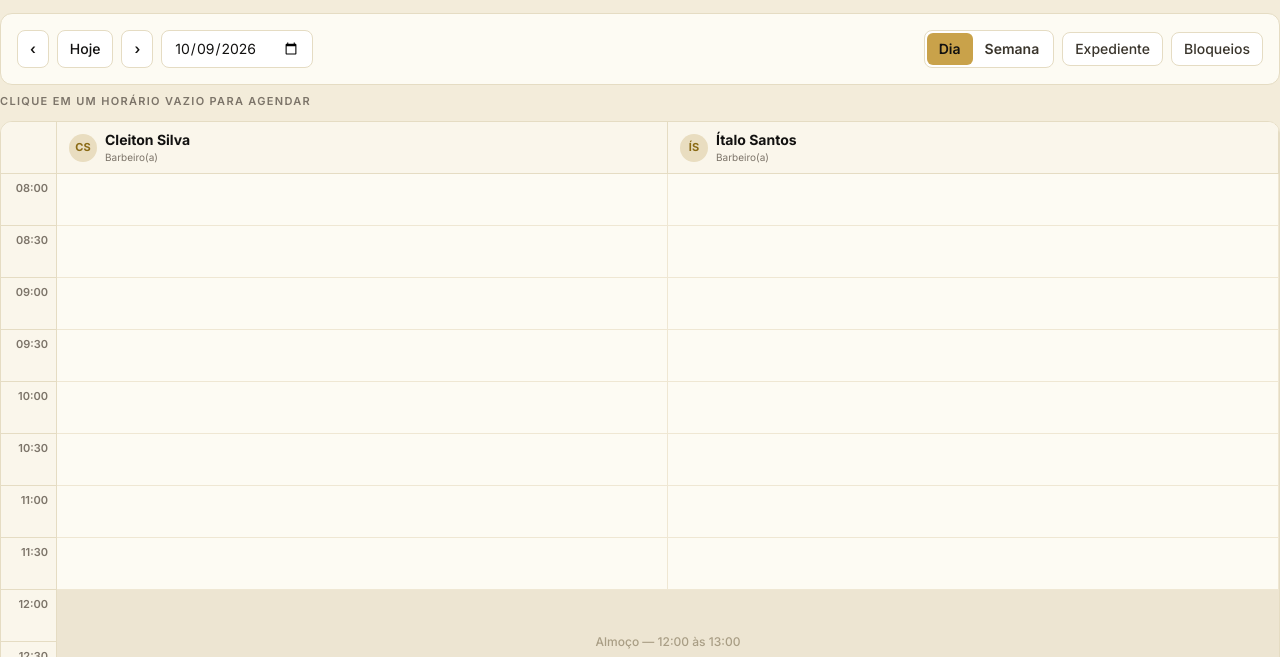
Scenario: Agenda — modais de expediente e bloqueios › expediente: valida erro e reflete na grade ao salvar
The image size is (1280, 657).
Click the button "Expediente" at (1113, 48), box 1062,32 -> 1163,66
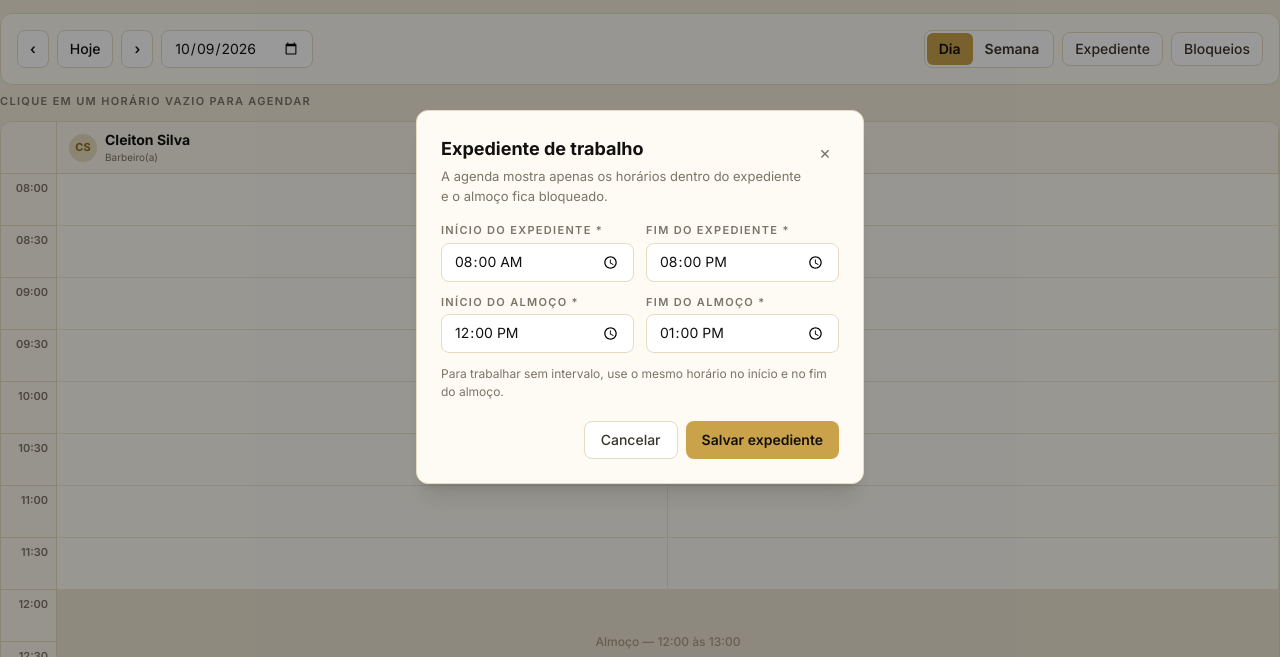
Now the heading "Expediente de trabalho" is shown, box 441,138 -> 644,159
Replace the text in the time field labelled "Início do expediente *" with "21:00" at (538, 262), box 441,243 -> 634,282
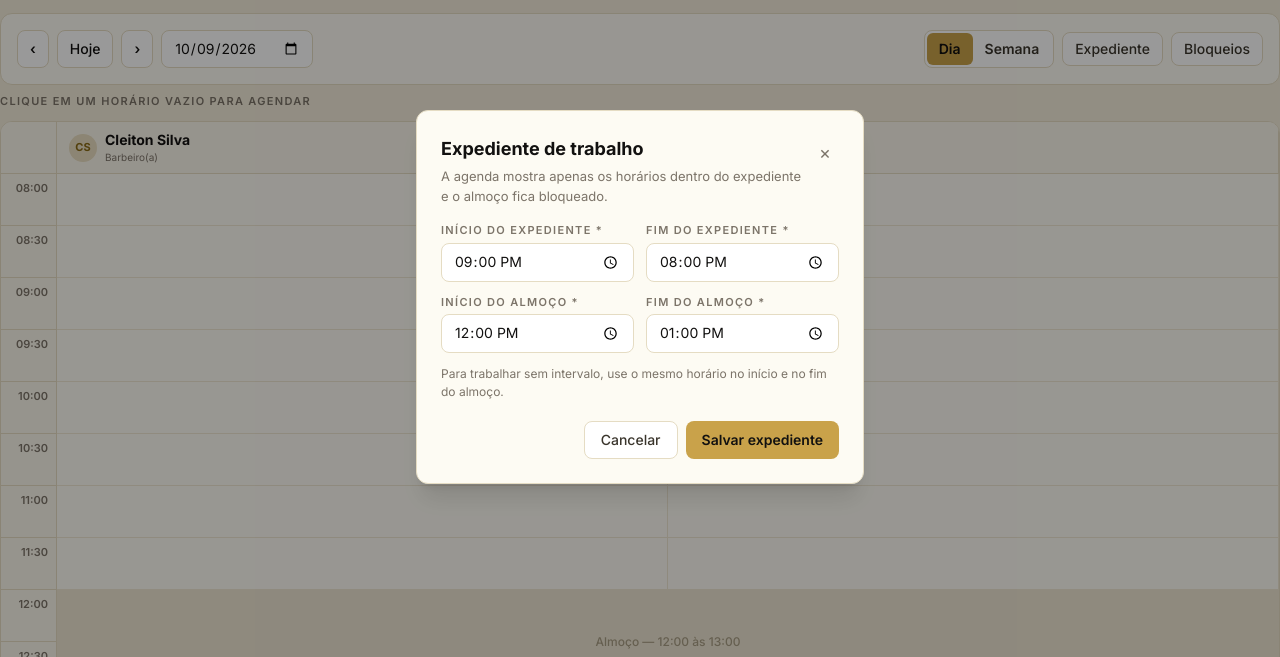
Click the button "Salvar expediente" at (762, 440), box 686,421 -> 839,459
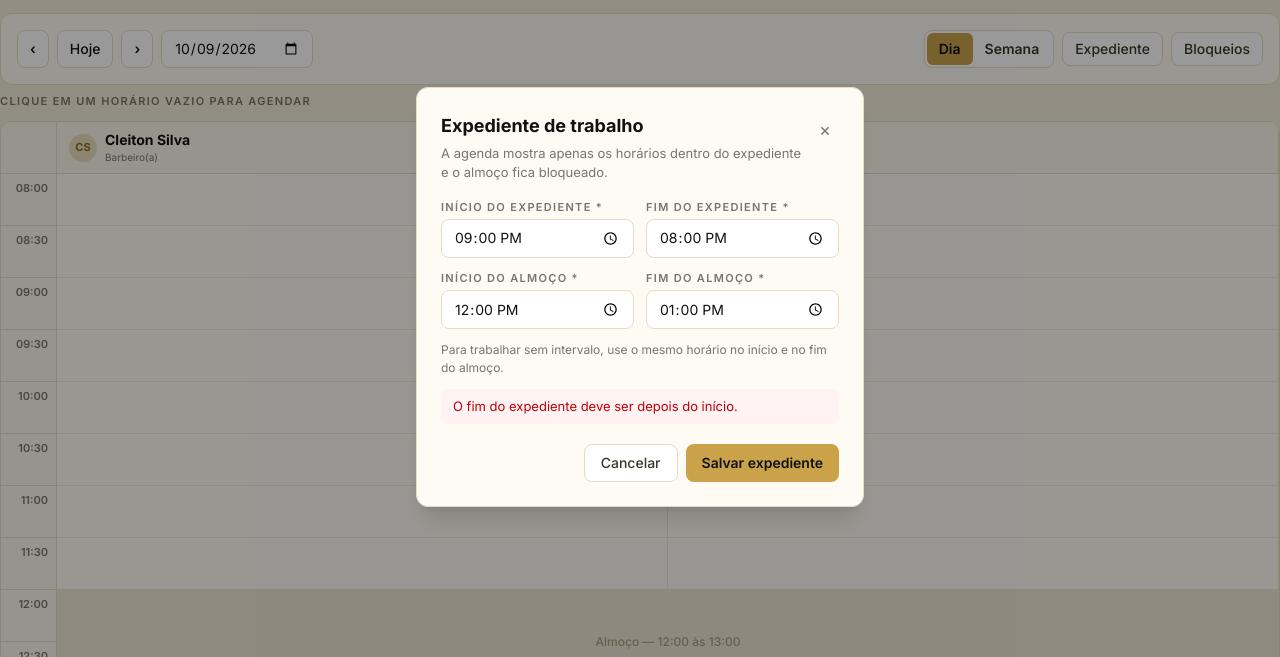
Now the text "O fim do expediente deve ser depois do início." is shown, box 441,389 -> 839,424
Replace the text in the time field labelled "Início do expediente *" with "08:00" at (538, 238), box 441,219 -> 634,258
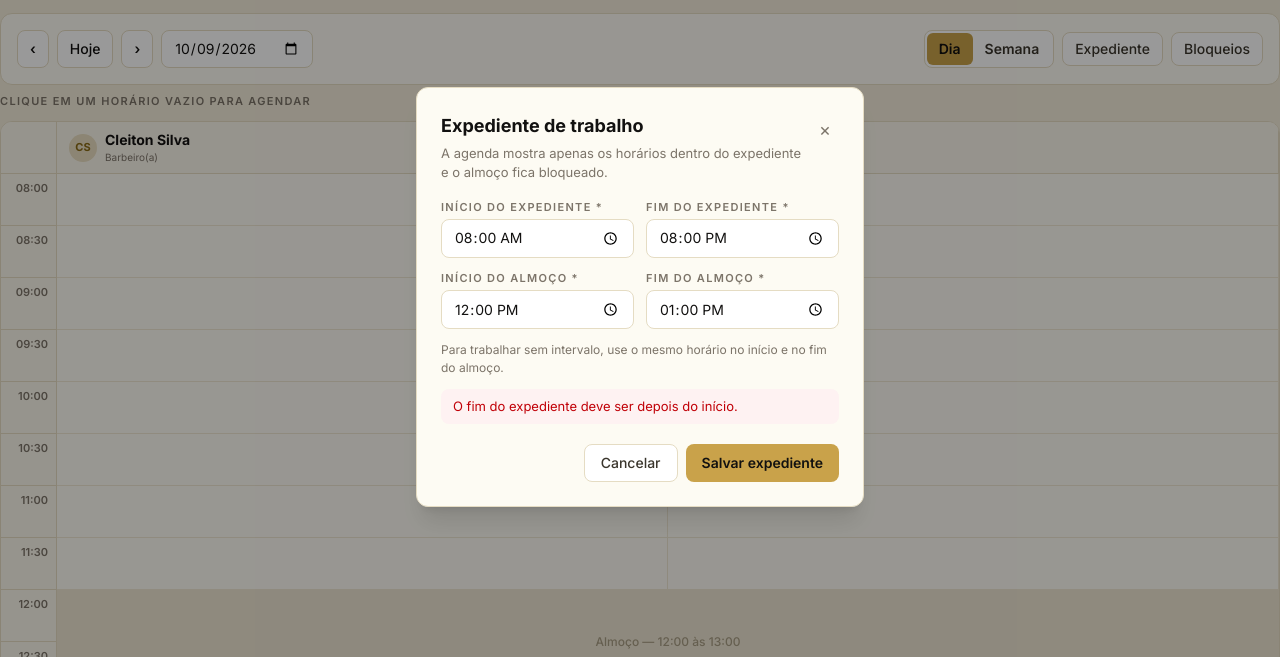
Replace the text in the time field labelled "Fim do expediente *" with "17:00" at (742, 238), box 646,219 -> 839,258
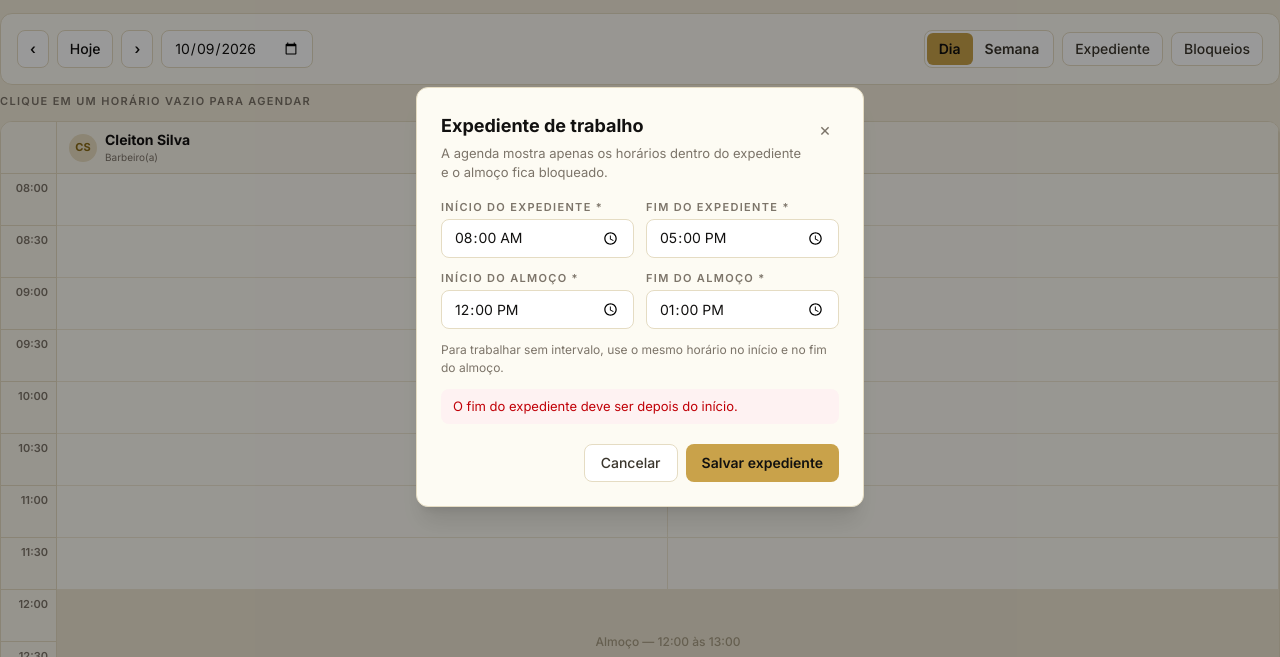
Click the button "Salvar expediente" at (762, 463), box 686,444 -> 839,482
(page scrolled)
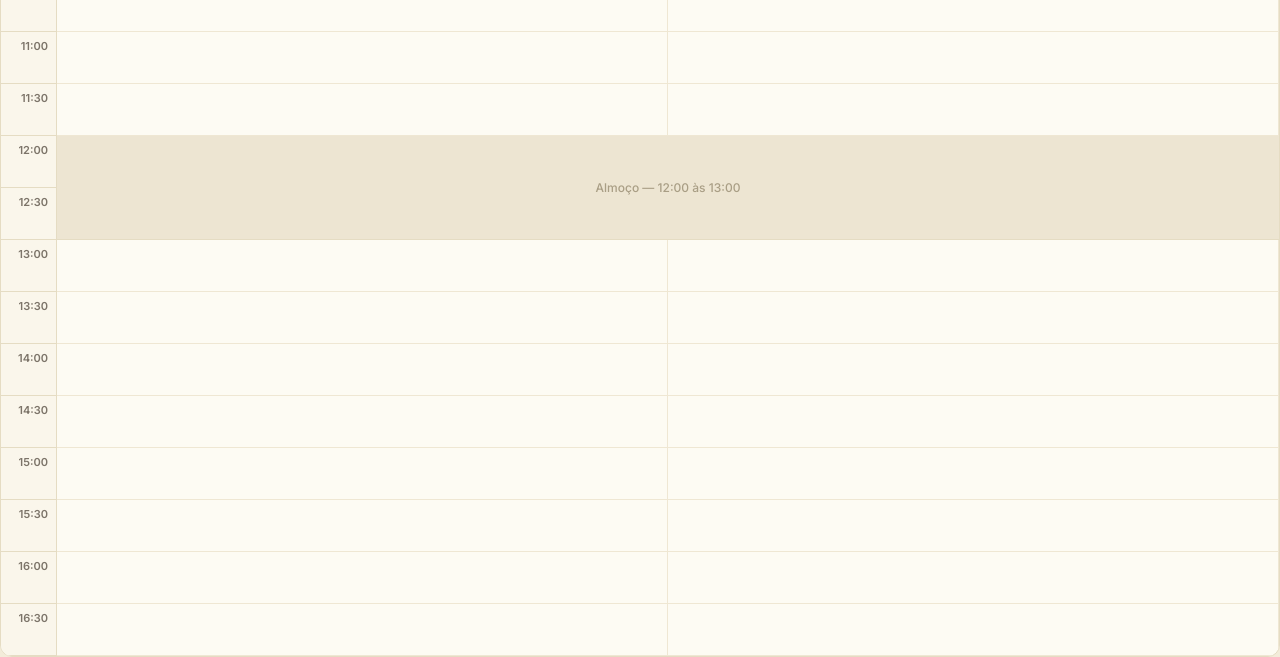
Expected: the text "16:30" is shown, 1,604 -> 57,656
Now the heading "Expediente de trabalho" is gone
